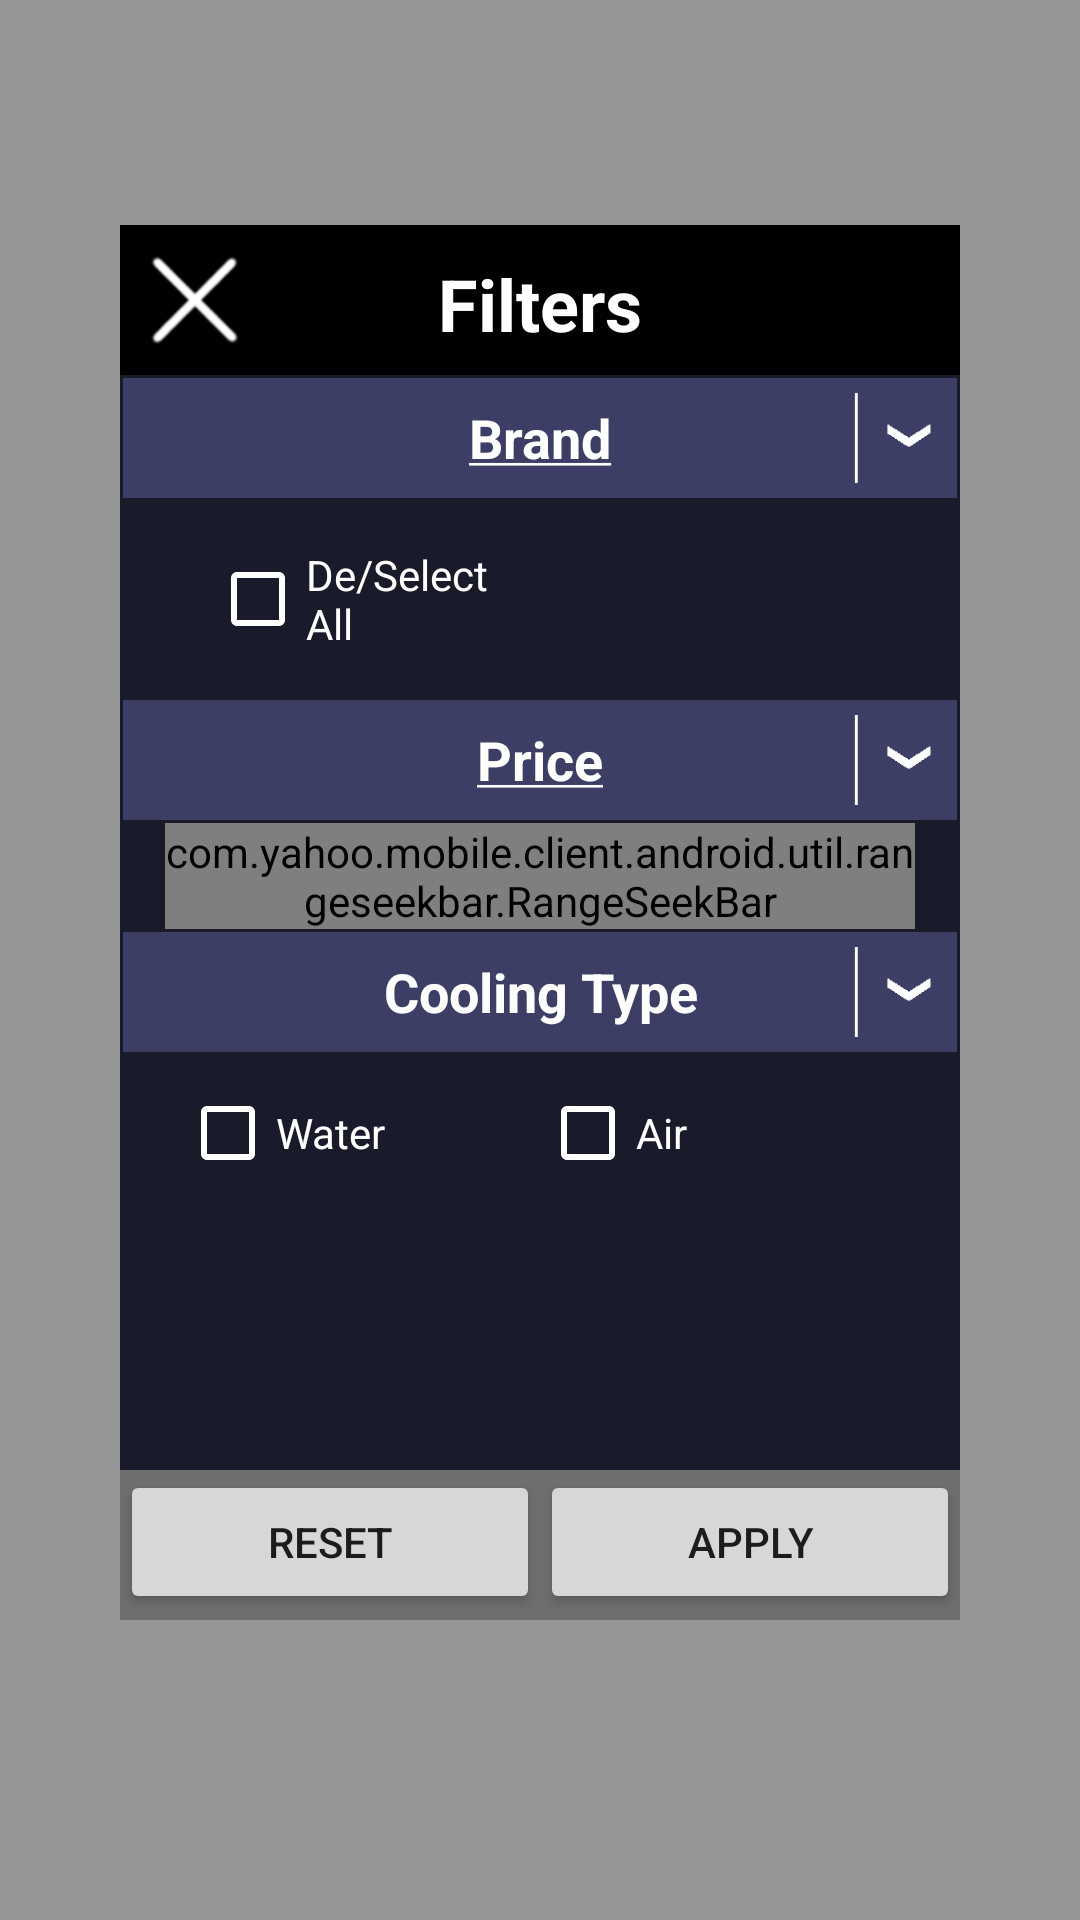

Locate icon controls on the screen. Image size 1080 × 1920, boxes as (x1, y1, x2, y2).
close mark: (152, 257, 238, 344)
